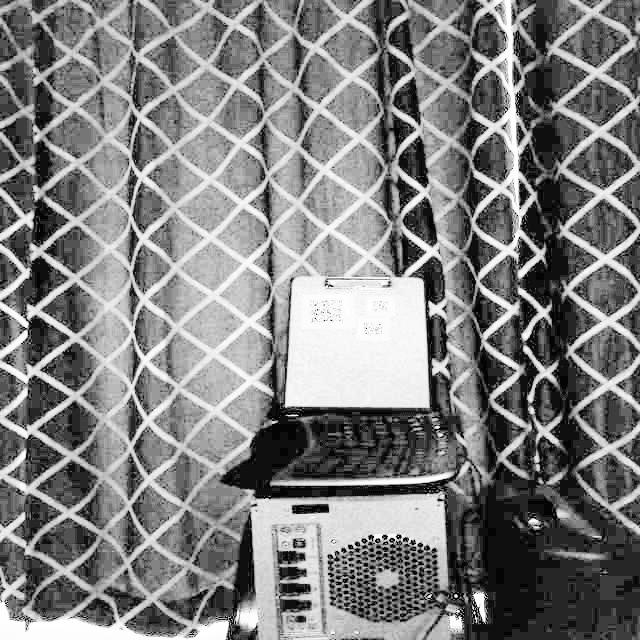qr_code: (303, 295, 348, 328), (359, 320, 392, 339), (368, 296, 394, 316)
